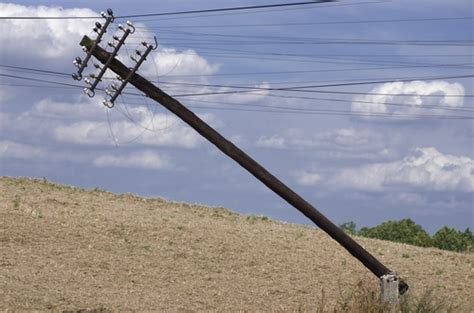pole: (67, 12, 410, 302)
